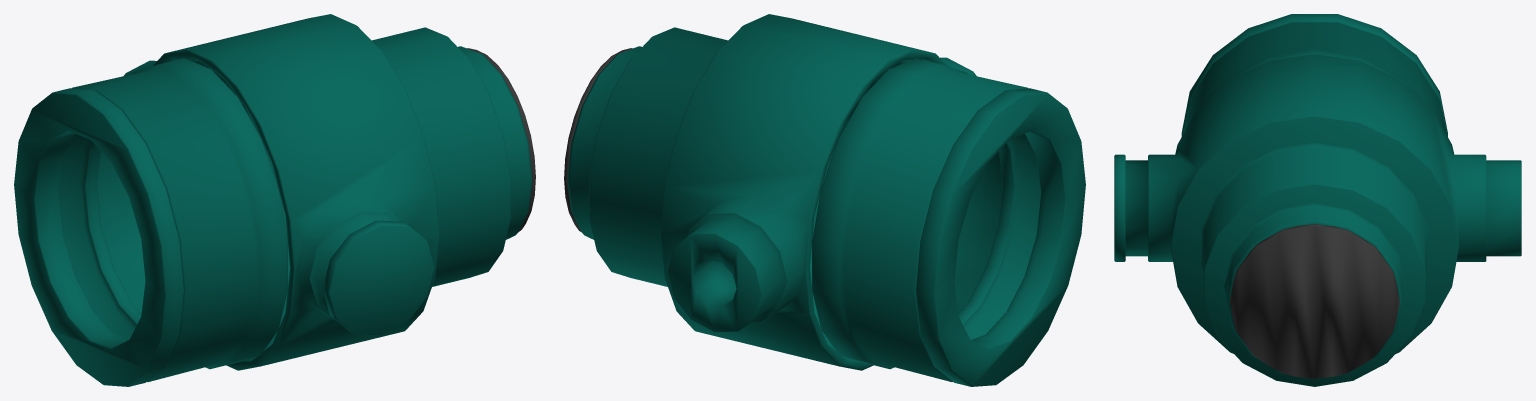
File: 2h09080_arml_t78.obj
3 renders of one model, left to right at view 1: azimuth 30°, elevation 25°; view 2: azimuth 150°, elevation 25°; view 3: azimuth 270°, elevation 25°, orthographic. The views are drawn at different scales.
Bounding box in the file's own units: 0.1255 × 0.09 × 0.127.
